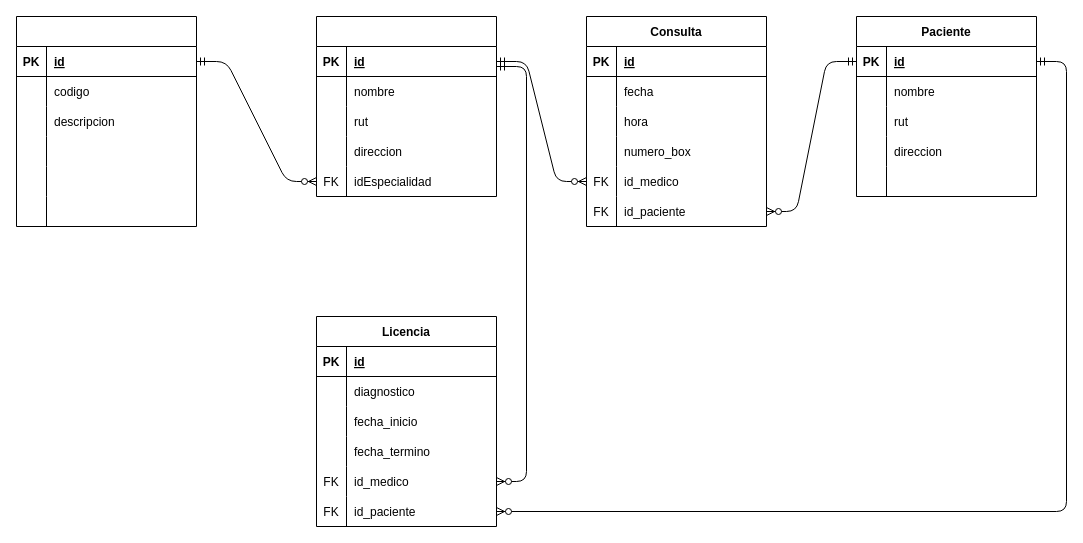
This 1083x543 diagram has some shape labels left out. The shapes that lost their labels are listed below. From the top down, each one's box as (x1, y1, x2, y2) in pixels, then its label:
(16, 16, 196, 226): Especialidad
(316, 16, 496, 196): Medico
